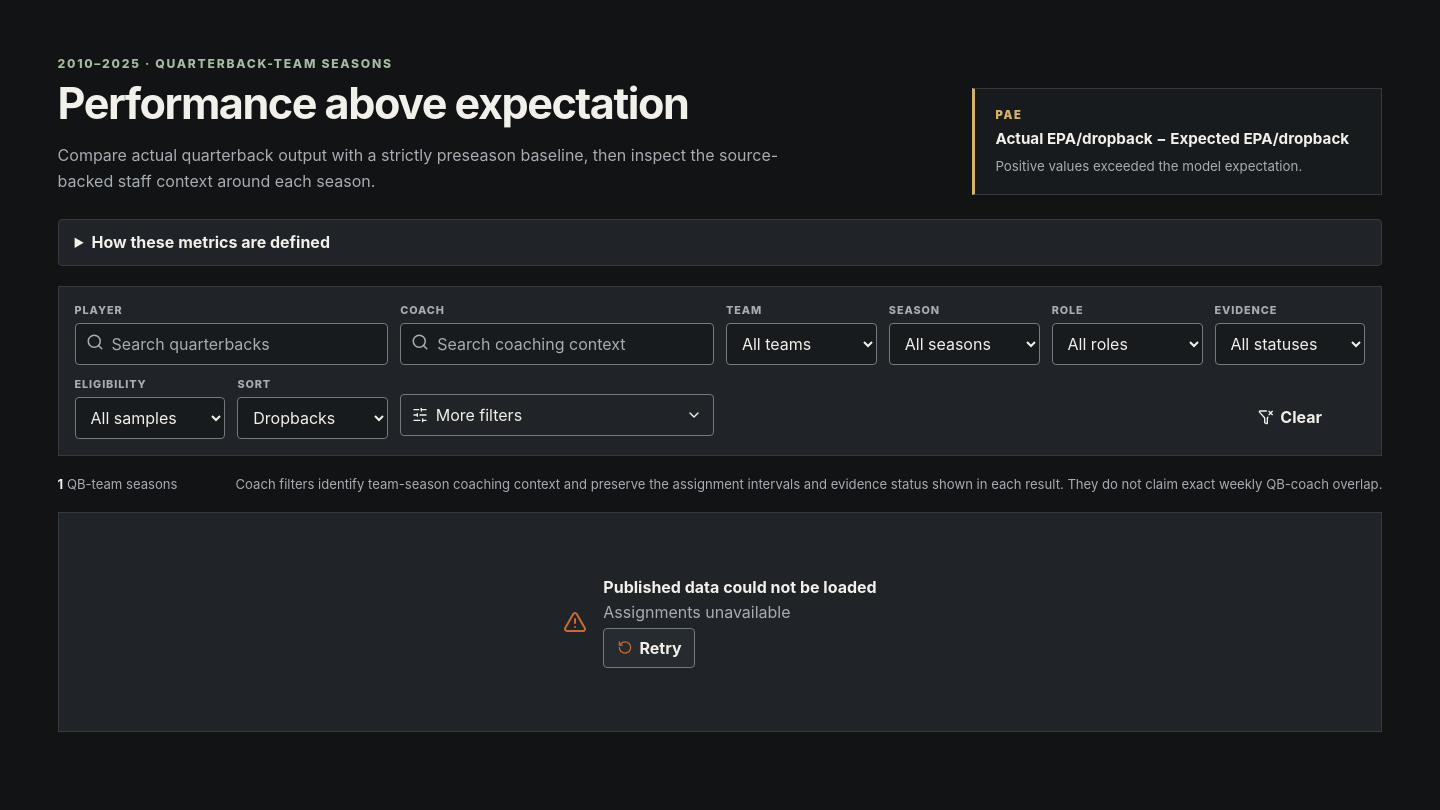
Test: StatisticsPage › retries every required statistics query after a dependency failure
Click the button "Retry" at (649, 648), box [603,628,695,668]
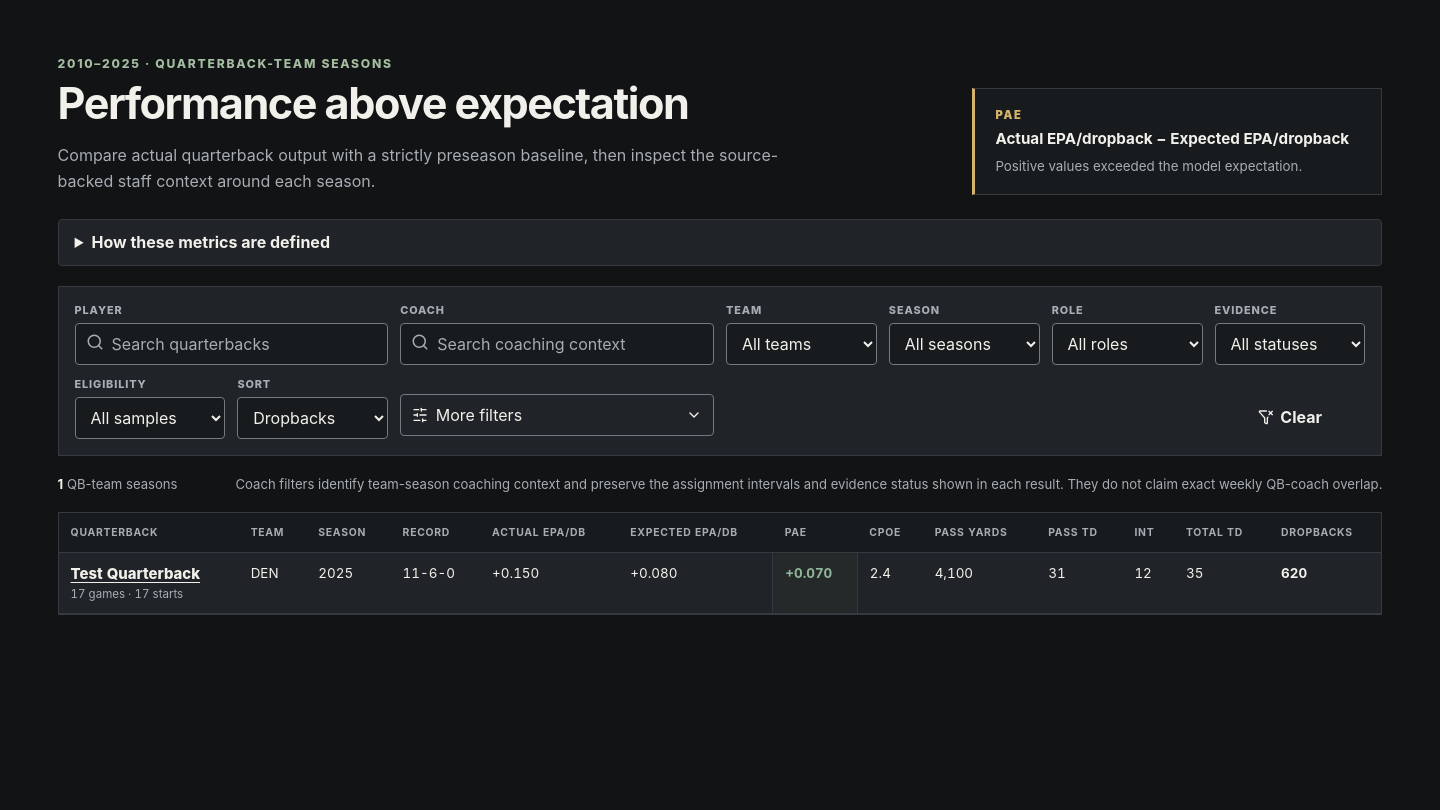
Now the link "Test Quarterback" is shown, box [71,565,200,583]
